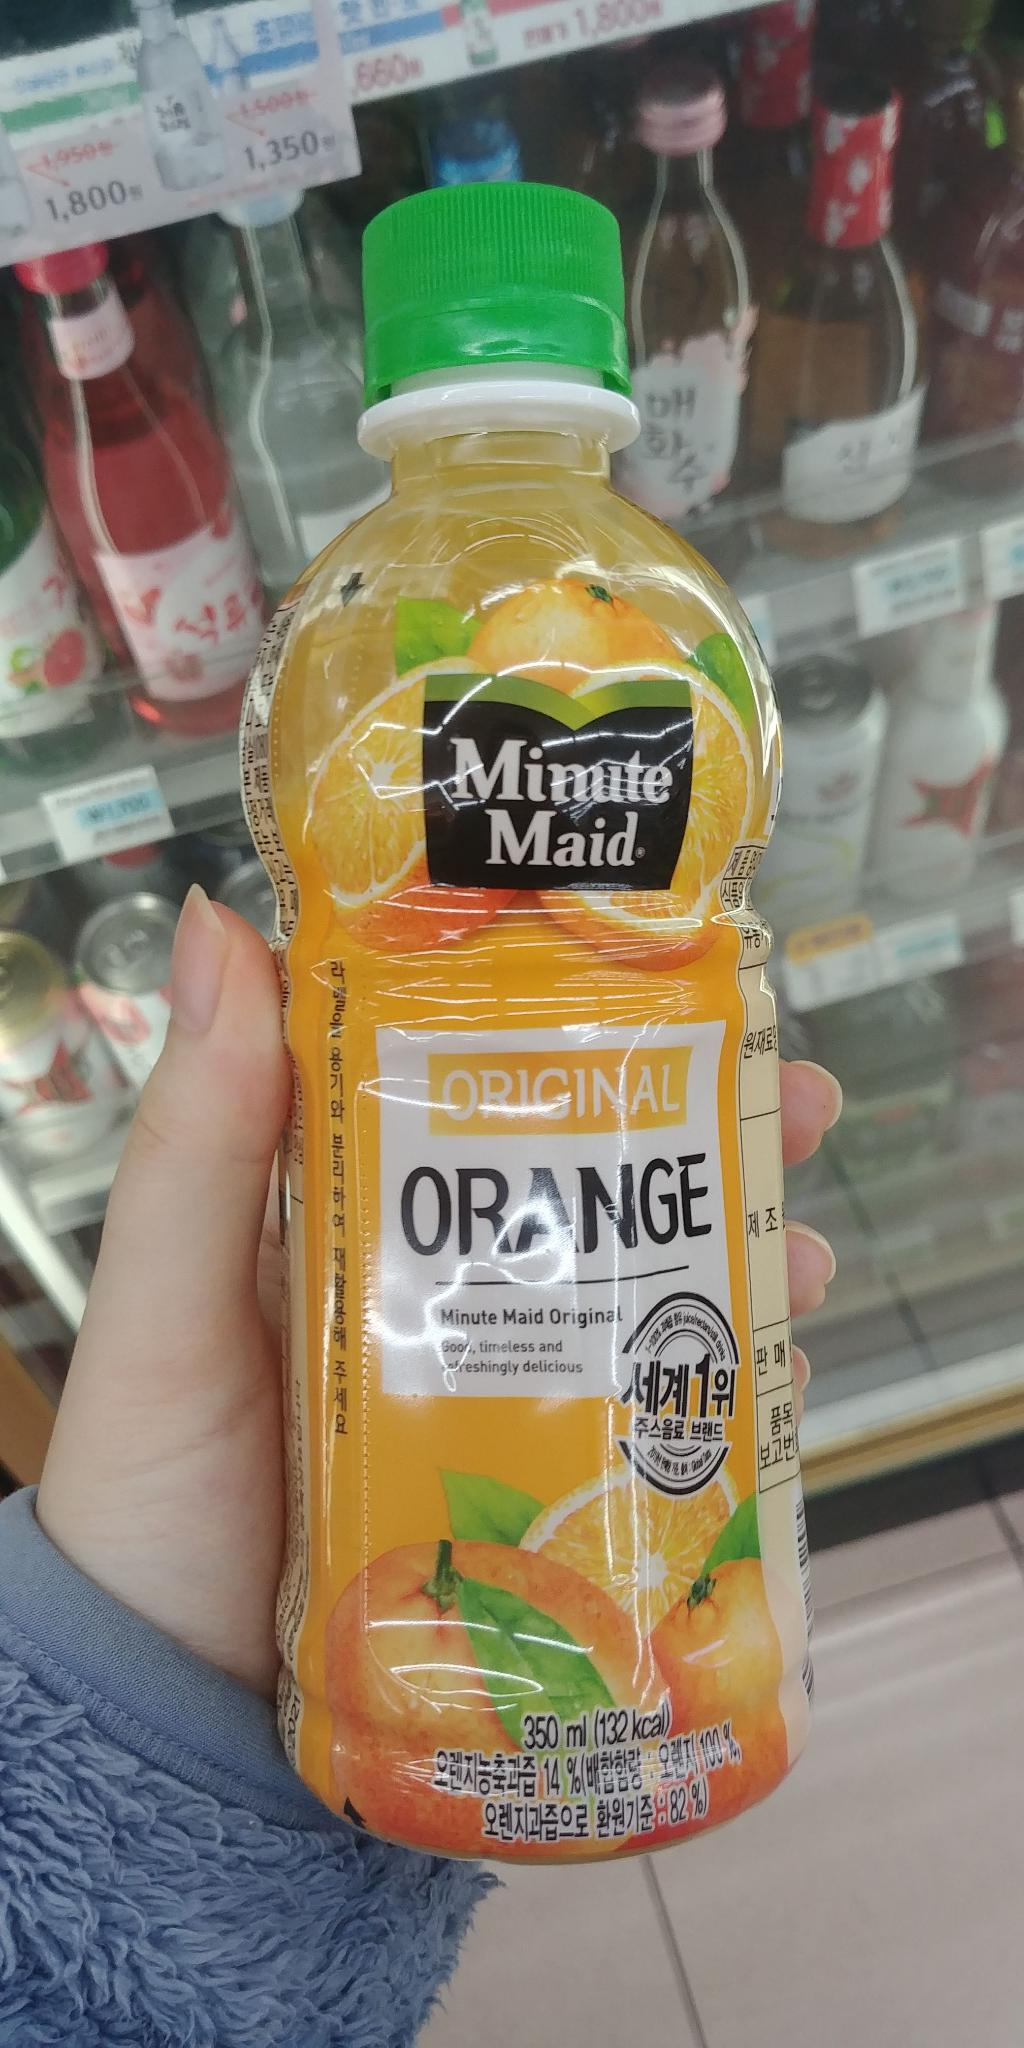minutemaid_org_orange: (222, 167, 852, 1870)
